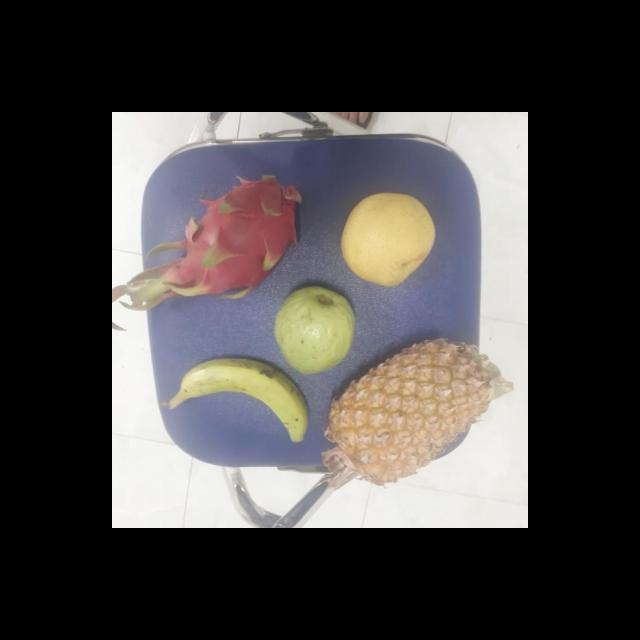banana: (179, 356, 314, 442)
guava: (274, 287, 358, 373)
pear: (338, 192, 437, 288)
pineapple: (332, 335, 498, 480)
pitaya: (155, 155, 314, 296)
